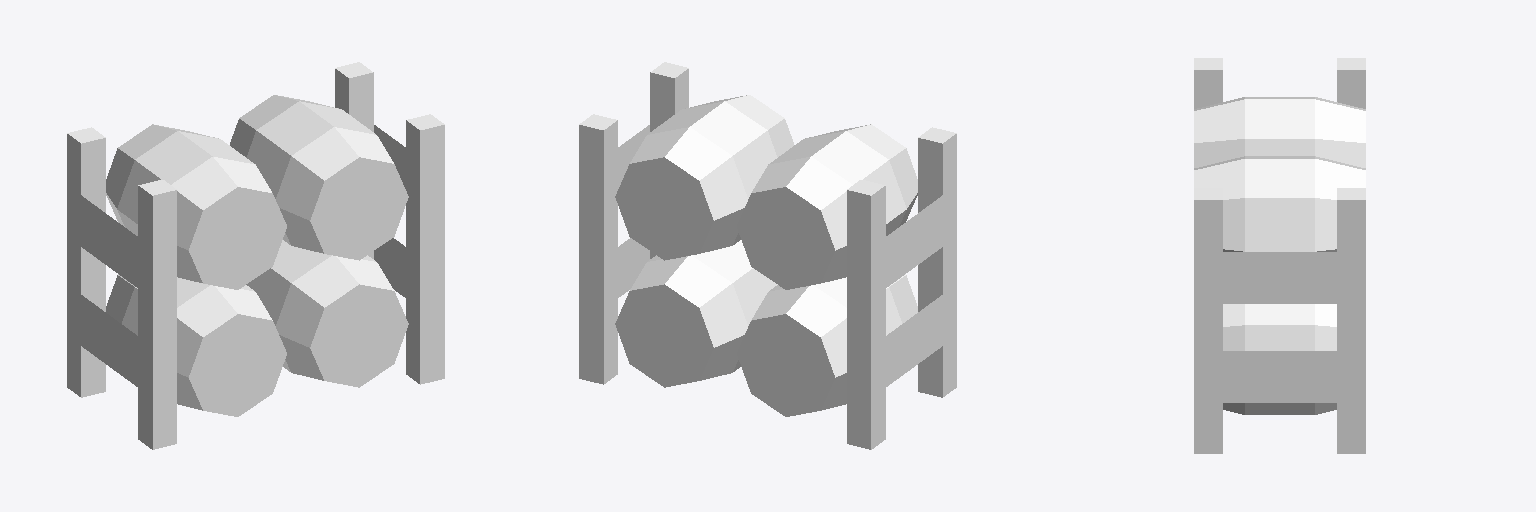
File: barrels.obj
The picture shows the model from 3 angles: view 1: azimuth 30°, elevation 25°; view 2: azimuth 150°, elevation 25°; view 3: azimuth 270°, elevation 25°; orthographic projection.
Parts seen in each view (by area): view 1: barrels; view 2: barrels; view 3: barrels.
Part boxes in pixels (x1,y1,x2,y2): barrels: (67,62,444,449); barrels: (579,62,956,449); barrels: (1194,58,1365,453).
Bounding box in the file's own units: 0.592 × 0.492 × 0.3.